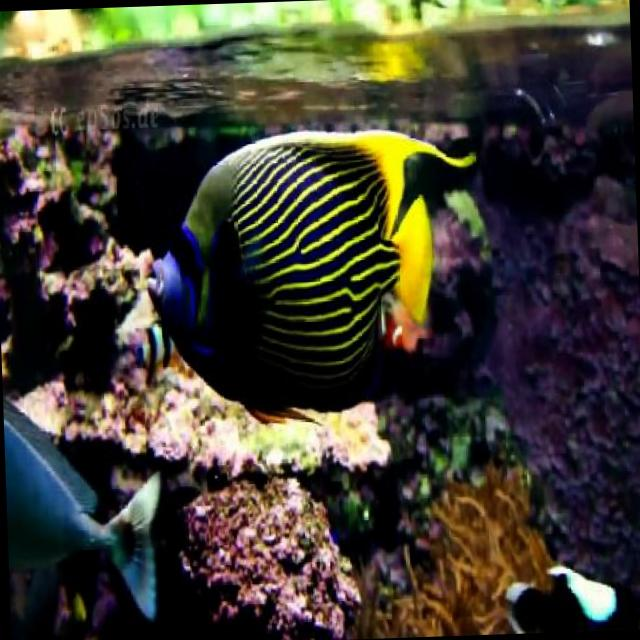AngelFish: (142, 123, 483, 425)
